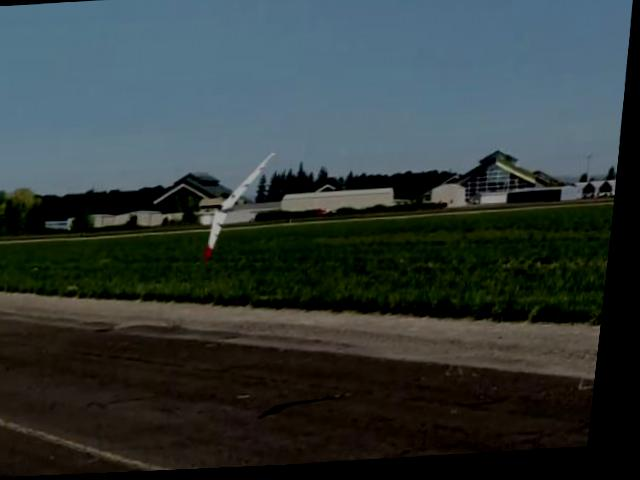flying wing: (208, 152, 283, 266)
